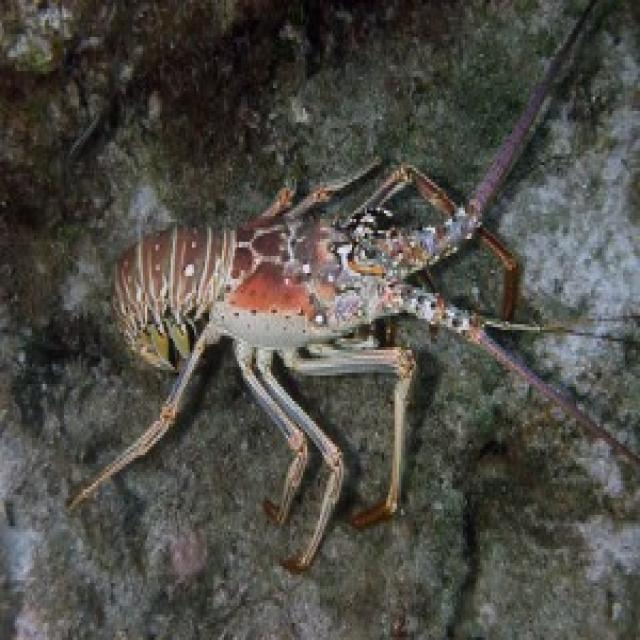lobsters: (18, 109, 613, 502)
